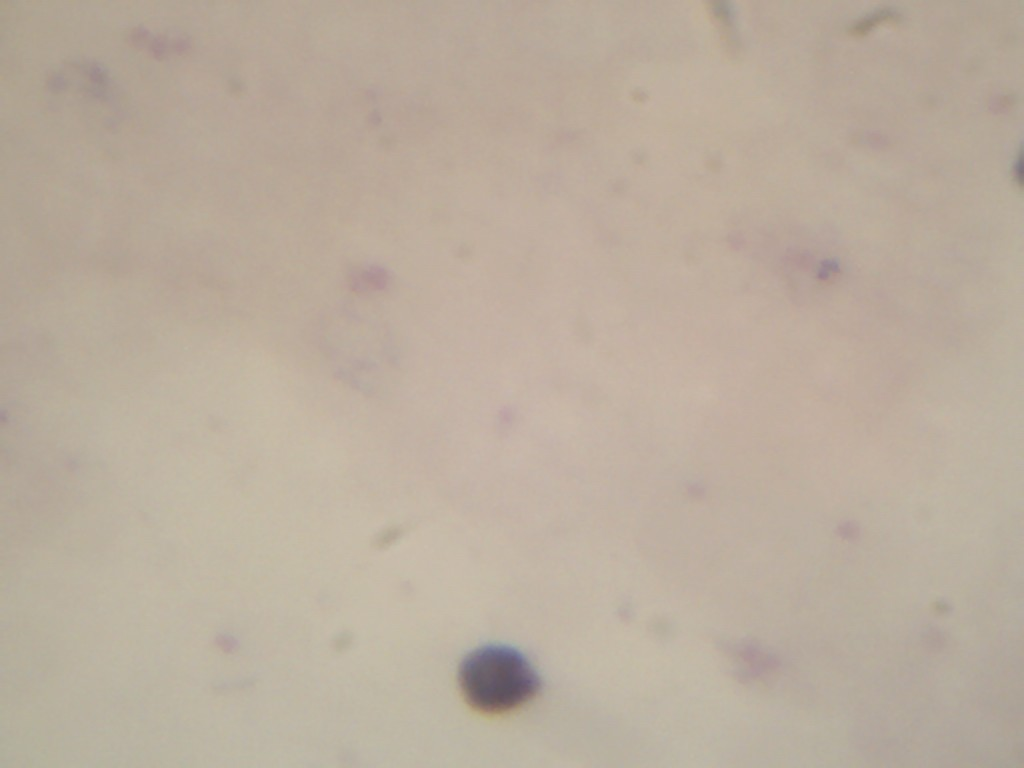person: (799, 244, 849, 294)
